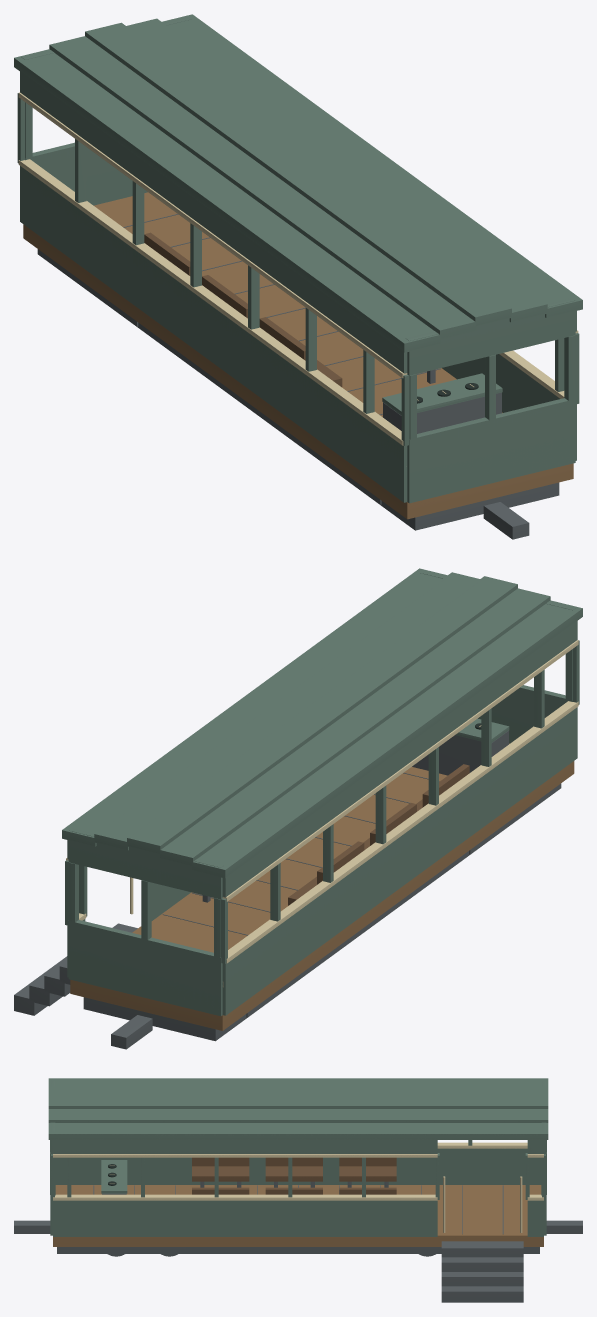
The model's file is SummerRailcar.glb.
3 renders of one model, top to bottom at view 1: azimuth 30°, elevation 25°; view 2: azimuth 150°, elevation 25°; view 3: azimuth 270°, elevation 25°, orthographic. The views are drawn at different scales.
Visible parts, largest first — view 1: LOD0_TrainPaint, LOD1_TrainPaint, LOD0_TrainWood, LOD1_TrainWood, LOD0_TrainTrim, LOD0_TrainSteel, LOD1_TrainTrim, LOD1_TrainSteel, LOD1_TrainSeat, LOD0_TrainSeat; view 2: LOD0_TrainPaint, LOD1_TrainPaint, LOD1_TrainWood, LOD0_TrainWood, LOD0_TrainSteel, LOD1_TrainTrim, LOD1_TrainSteel, LOD0_TrainTrim, LOD1_TrainSeat, LOD0_TrainSeat; view 3: LOD0_TrainPaint, LOD1_TrainPaint, LOD1_TrainWood, LOD1_TrainSteel, LOD0_TrainSteel, LOD0_TrainWood, LOD0_TrainSeat, LOD1_TrainTrim, LOD0_TrainTrim, LOD1_TrainSeat.
Boxes of the visible parts, x1=… form: LOD0_TrainPaint: x1=14, y1=15, x2=582, y2=502; LOD1_TrainPaint: x1=14, y1=14, x2=582, y2=503; LOD0_TrainWood: x1=23, y1=192, x2=572, y2=518; LOD1_TrainWood: x1=23, y1=192, x2=573, y2=519; LOD0_TrainTrim: x1=19, y1=92, x2=577, y2=444; LOD0_TrainSteel: x1=38, y1=214, x2=558, y2=538; LOD1_TrainTrim: x1=18, y1=92, x2=578, y2=445; LOD1_TrainSteel: x1=37, y1=249, x2=559, y2=539; LOD1_TrainSeat: x1=144, y1=232, x2=342, y2=387; LOD0_TrainSeat: x1=155, y1=244, x2=341, y2=386; LOD0_TrainPaint: x1=62, y1=569, x2=582, y2=1014; LOD1_TrainPaint: x1=62, y1=568, x2=582, y2=1016; LOD1_TrainWood: x1=70, y1=761, x2=574, y2=1030; LOD0_TrainWood: x1=71, y1=743, x2=573, y2=1029; LOD0_TrainSteel: x1=14, y1=735, x2=560, y2=1048; LOD1_TrainTrim: x1=66, y1=640, x2=578, y2=963; LOD1_TrainSteel: x1=14, y1=730, x2=561, y2=1049; LOD0_TrainTrim: x1=67, y1=640, x2=578, y2=987; LOD1_TrainSeat: x1=288, y1=764, x2=469, y2=905; LOD0_TrainSeat: x1=288, y1=767, x2=460, y2=904; LOD0_TrainPaint: x1=49, y1=1078, x2=547, y2=1236; LOD1_TrainPaint: x1=48, y1=1078, x2=548, y2=1236; LOD1_TrainWood: x1=53, y1=1185, x2=543, y2=1246; LOD1_TrainSteel: x1=14, y1=1181, x2=582, y2=1302; LOD0_TrainSteel: x1=14, y1=1181, x2=582, y2=1302; LOD0_TrainWood: x1=53, y1=1185, x2=543, y2=1243; LOD0_TrainSeat: x1=192, y1=1157, x2=396, y2=1194; LOD1_TrainTrim: x1=53, y1=1142, x2=543, y2=1232; LOD0_TrainTrim: x1=53, y1=1143, x2=543, y2=1232; LOD1_TrainSeat: x1=192, y1=1157, x2=396, y2=1194.
Bounding box in the file's own units: 4.51 × 4.1 × 13.9.
